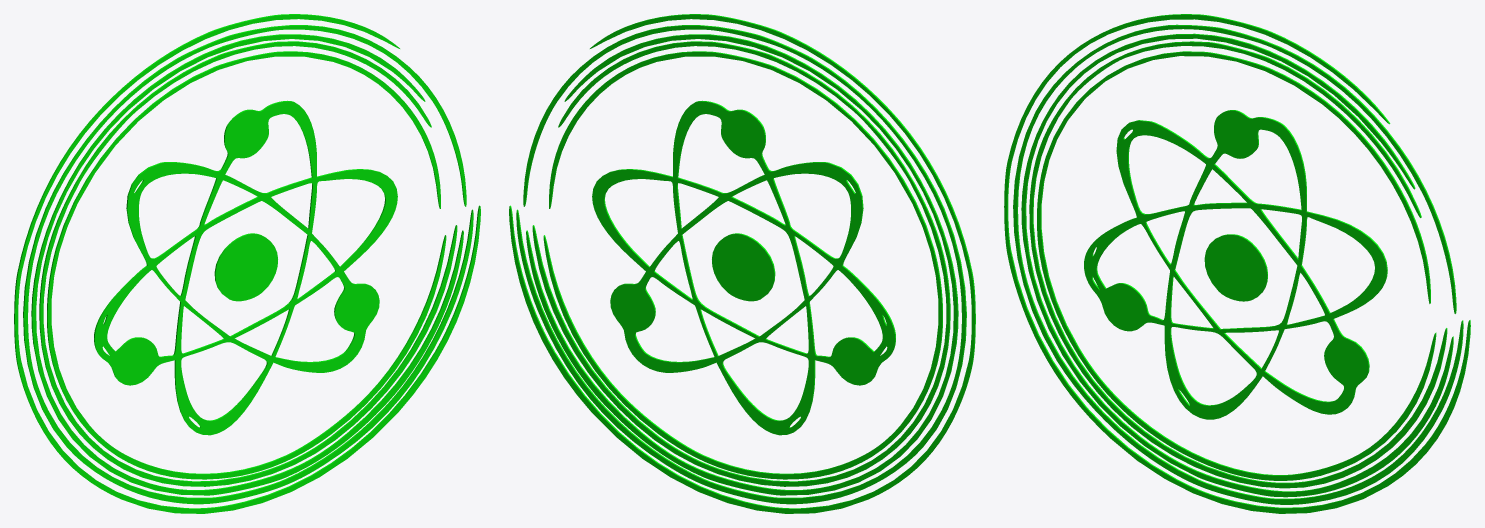
Rendered from tinker.obj.
3 views of the same model, side by side, from view 1: azimuth 30°, elevation 25°; view 2: azimuth 150°, elevation 25°; view 3: azimuth 330°, elevation 25° (orthographic).
Parts seen in each view (by area): view 1: obj_0; view 2: obj_0; view 3: obj_0.
Part boxes in pixels (left/top/right/bottom): obj_0: left=14, top=14, right=480, bottom=513; obj_0: left=509, top=14, right=975, bottom=513; obj_0: left=1004, top=14, right=1470, bottom=513.
Bounding box in the file's own units: 29.21 × 29.11 × 0.1.
